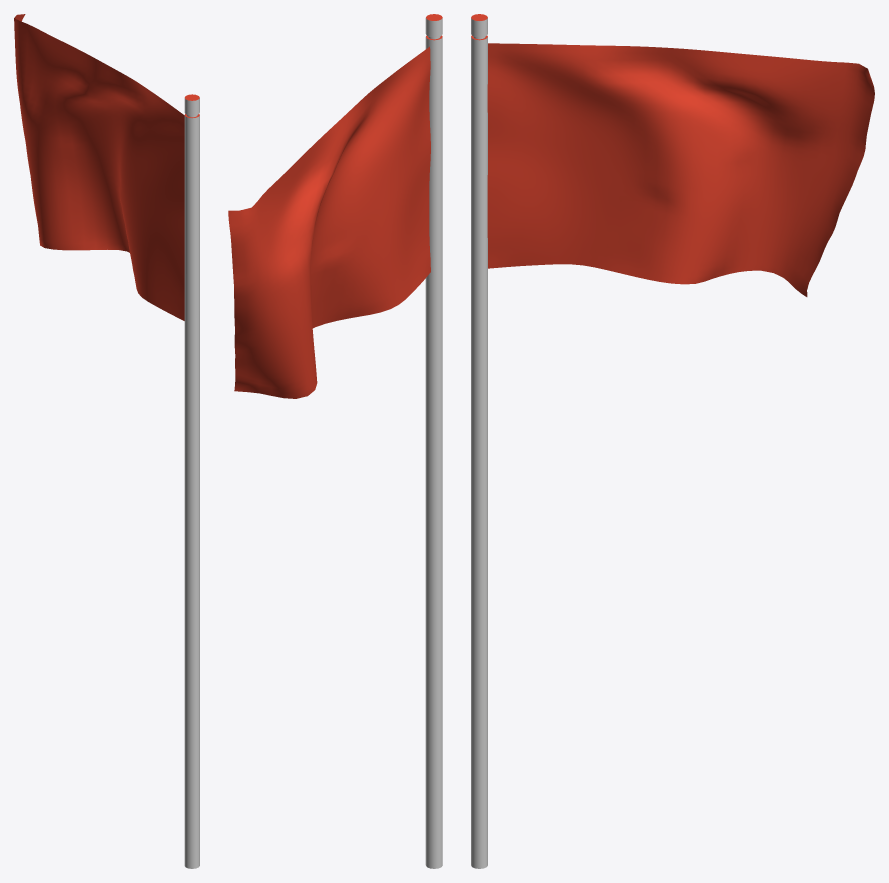
Rendered from flag1.gltf.
3 renders of one model, left to right at view 1: azimuth 30°, elevation 25°; view 2: azimuth 150°, elevation 25°; view 3: azimuth 270°, elevation 25°, orthographic. The views are drawn at different scales.
Visible parts, largest first — view 1: Cylinder.001; view 2: Cylinder.001; view 3: Cylinder.001.
Boxes of the visible parts, <box> form: Cylinder.001: <box>14,14,199,868</box>; Cylinder.001: <box>228,14,442,868</box>; Cylinder.001: <box>471,14,874,868</box>.
Size of the model in its own units: 0.4129 by 5.77 by 2.49.
